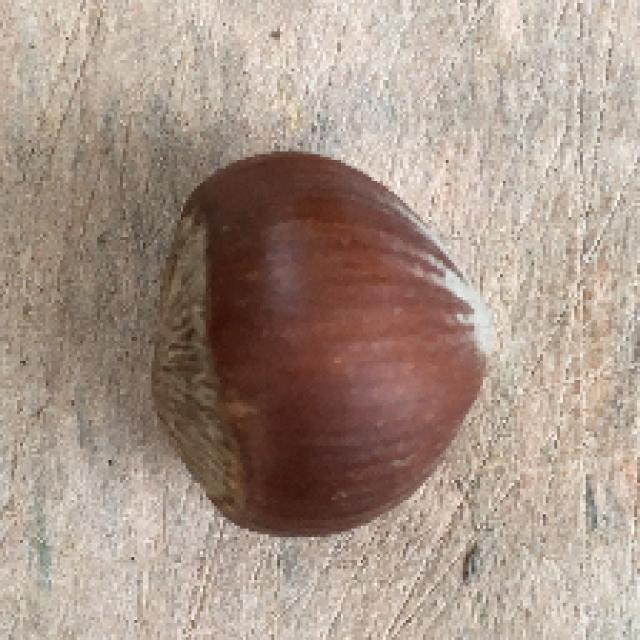damagedHazelnut: (151, 146, 498, 540)
